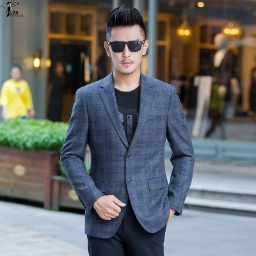face: (104, 5, 151, 78)
